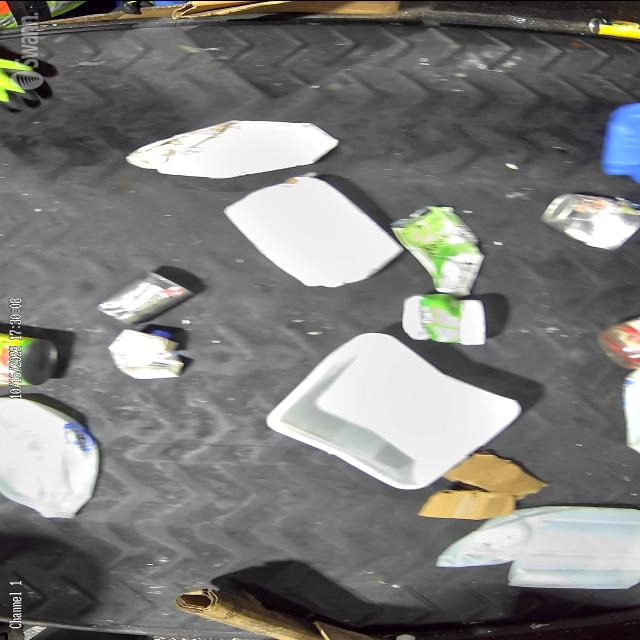can: (92, 262, 202, 322), (535, 191, 640, 248), (0, 322, 72, 388)
milk_jug: (0, 388, 104, 524)
